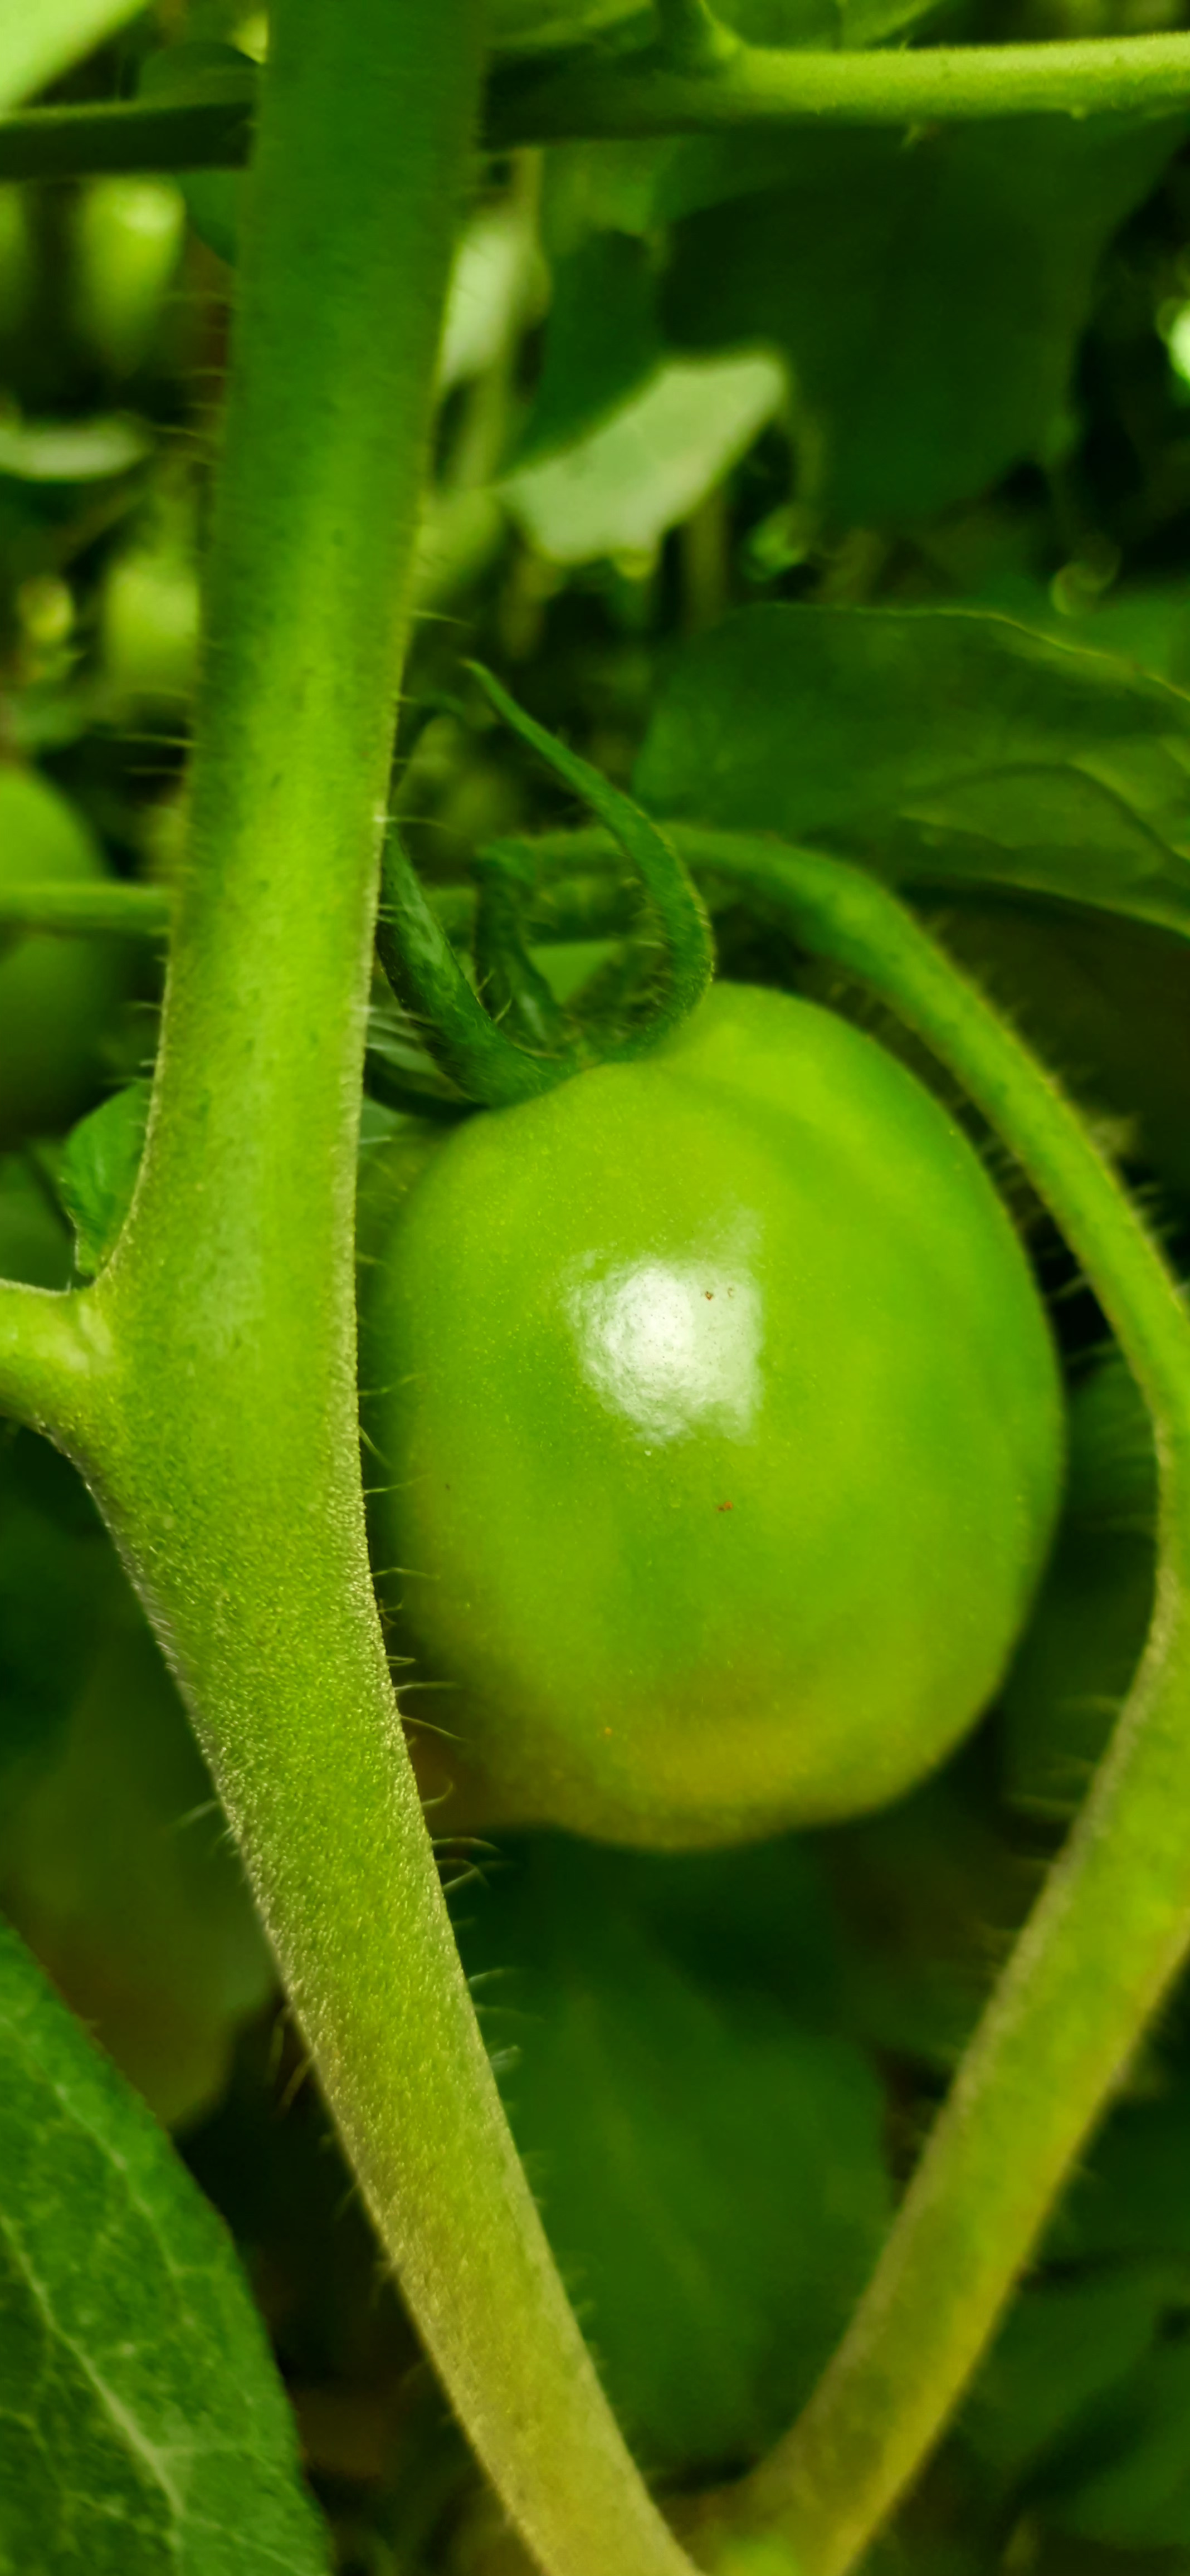raw_tomato: (289, 856, 1147, 1873)
